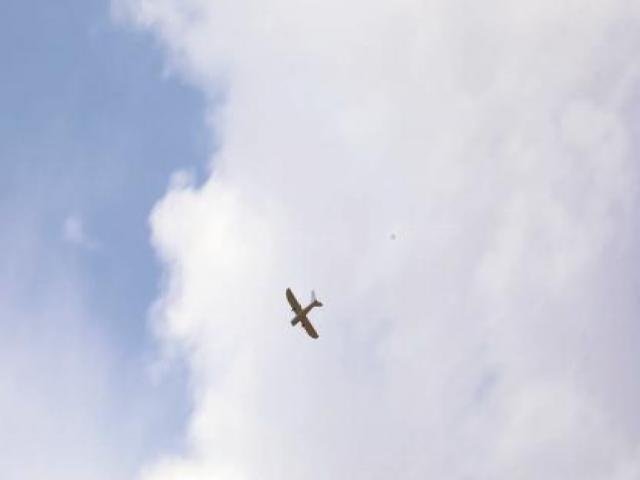uav: (284, 282, 324, 343)
